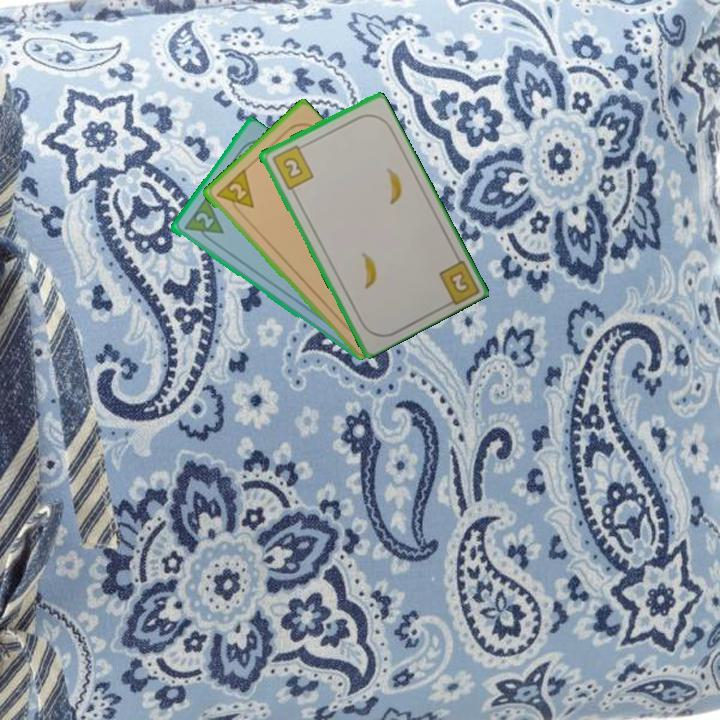2b: (268, 141, 316, 192), (445, 267, 472, 296)
2p: (180, 195, 226, 247), (211, 166, 257, 218)
